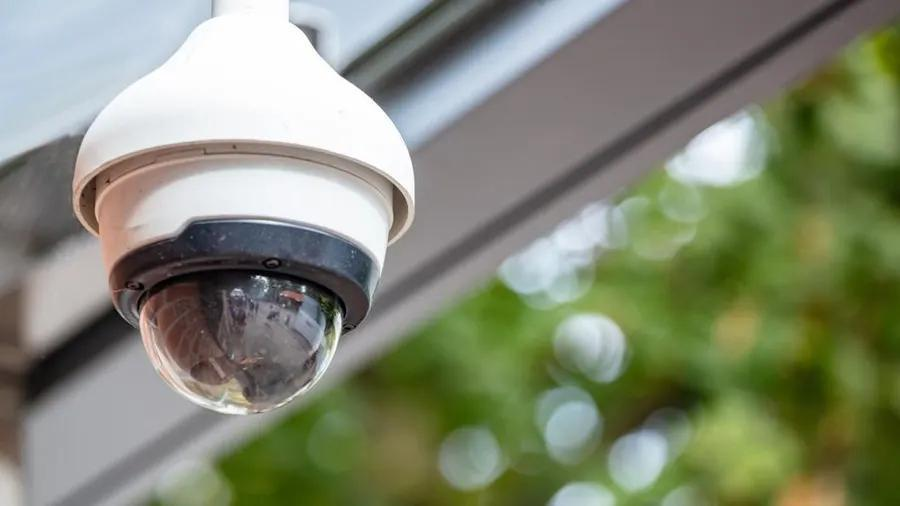camera: (68, 3, 431, 425)
